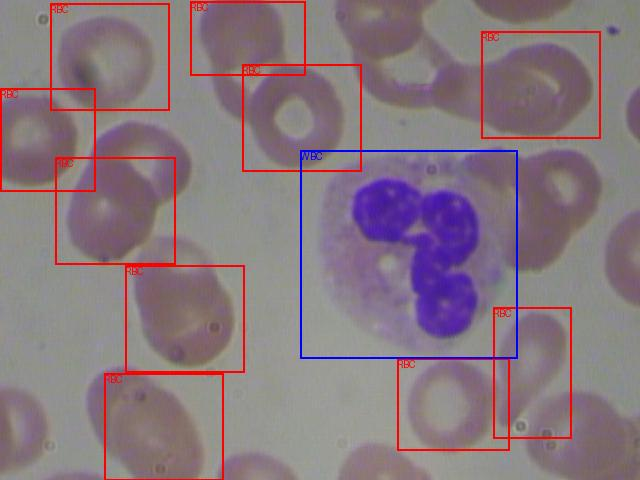RBC: (55, 157, 175, 264), (242, 64, 361, 171), (50, 3, 169, 110), (104, 373, 223, 480), (125, 265, 244, 372), (481, 31, 600, 138), (397, 358, 509, 450), (493, 307, 571, 438), (0, 88, 95, 191), (190, 1, 305, 75)
WBC: (300, 150, 517, 358)
